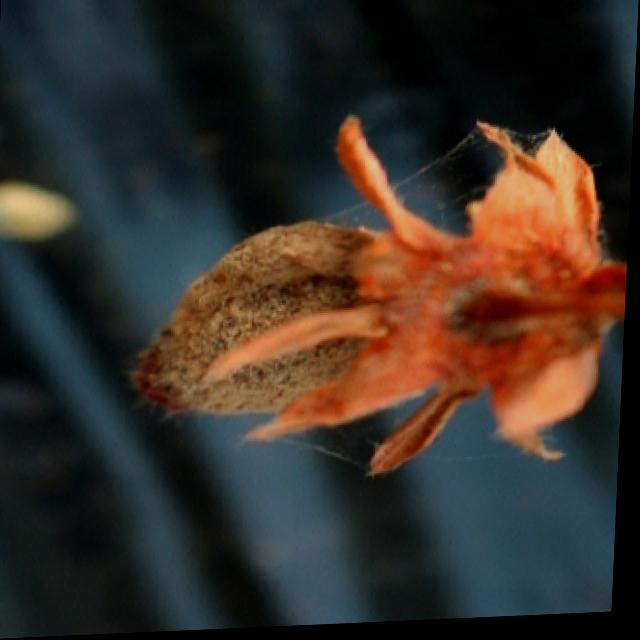Gray Mold: (129, 116, 630, 481)
